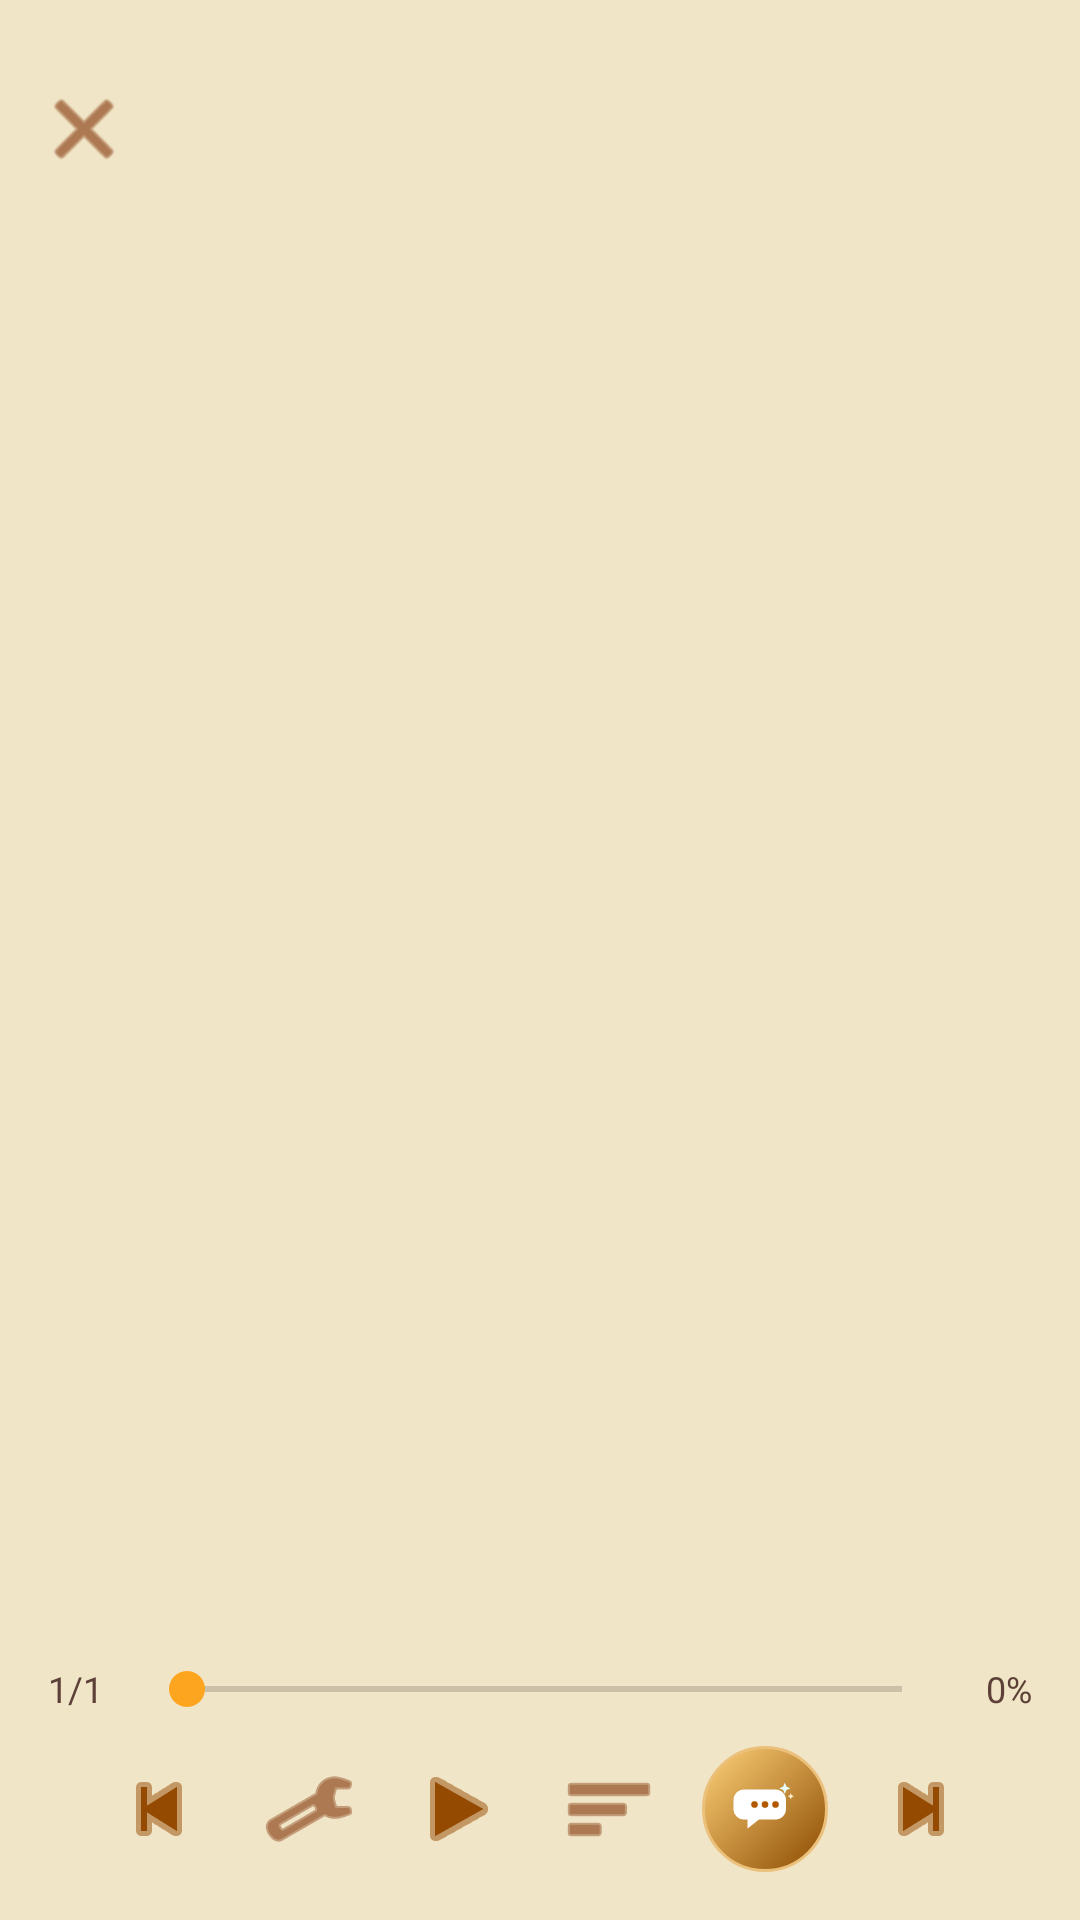

Where icons sit on this 1080 × 1920 app screen, as (x1, y1, x2, y2):
Chương tiếp: (898, 1782, 944, 1836)
Chương trước: (136, 1782, 182, 1836)
Danh sách chương: (568, 1783, 650, 1836)
Play: (430, 1777, 488, 1841)
reader chatbot: (702, 1746, 828, 1872)
Setting: (266, 1776, 352, 1842)
Đóng: (54, 99, 114, 159)
